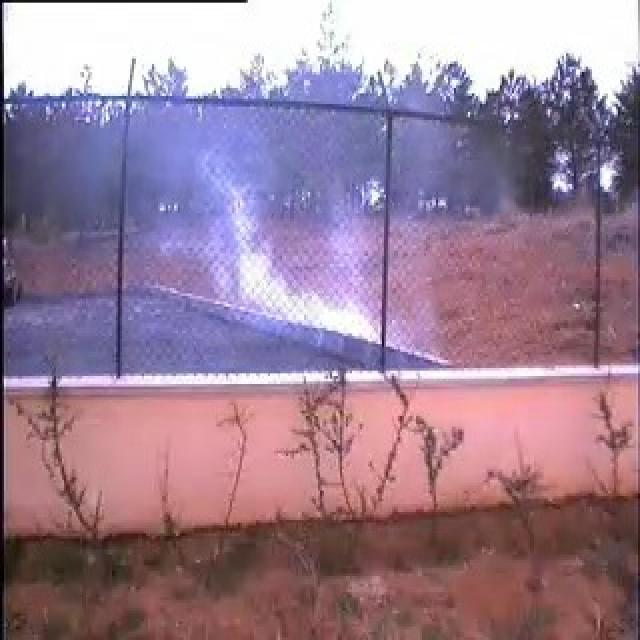smoke: (188, 146, 388, 328)
